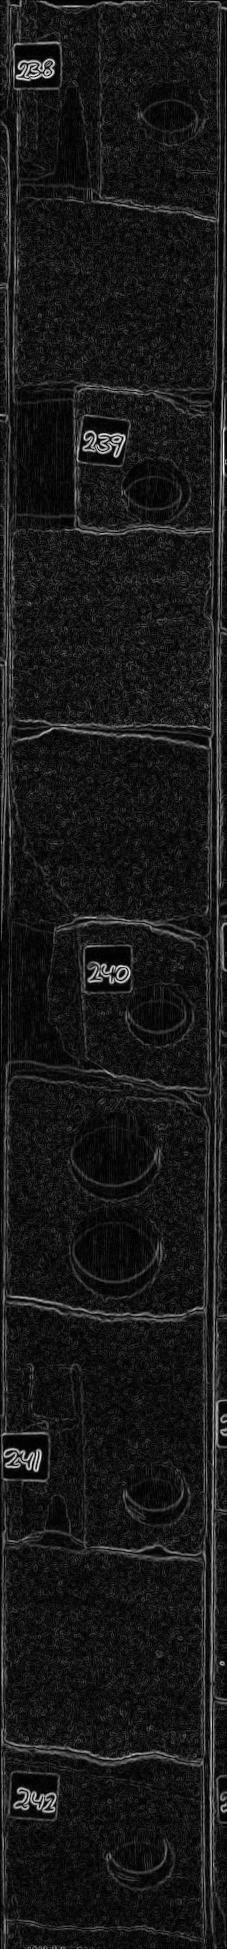hplug: (98, 1811, 180, 1893), (114, 1456, 198, 1531), (131, 75, 212, 150), (120, 977, 200, 1053), (117, 451, 198, 525)
scal: (66, 1101, 170, 1203), (66, 1201, 167, 1301)
vplug: (29, 2, 117, 208), (1, 365, 91, 544), (1, 914, 92, 1086), (19, 1357, 94, 1552)
